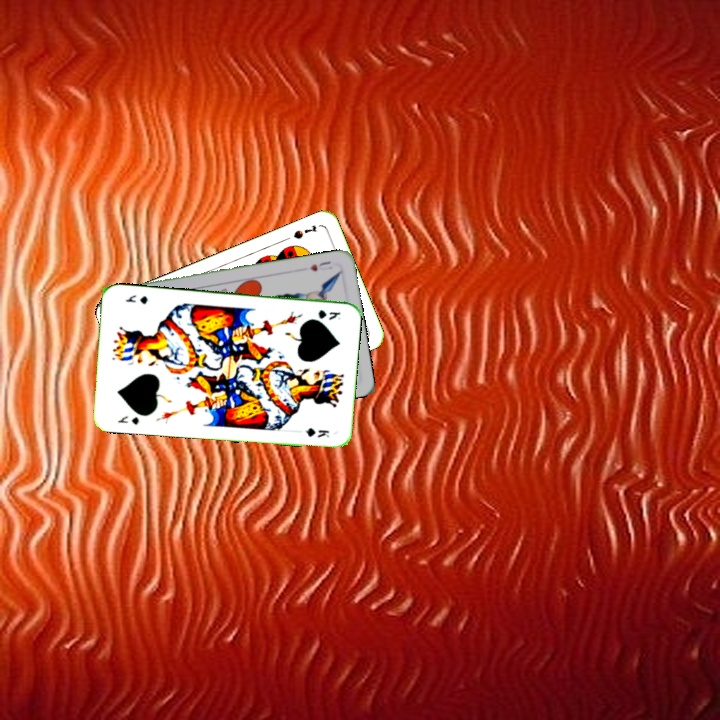GK: (314, 306, 343, 323), (114, 412, 141, 427)
HU: (305, 257, 335, 274)
S7: (289, 221, 319, 242)
